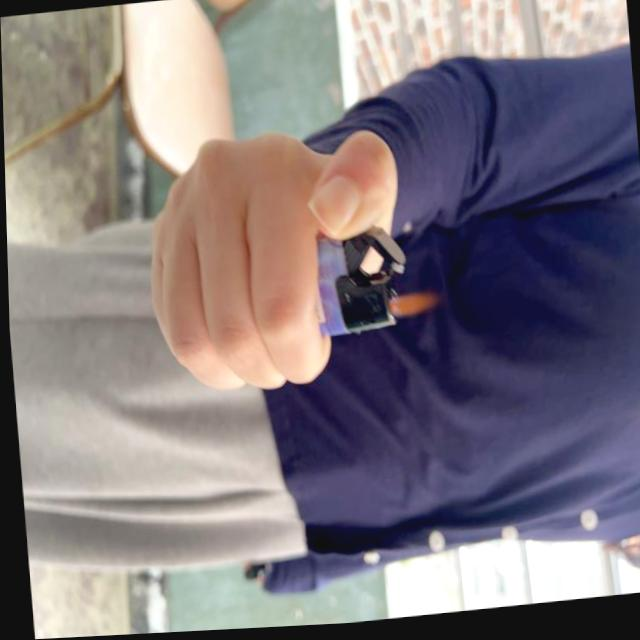helmet: (385, 290, 438, 326)
